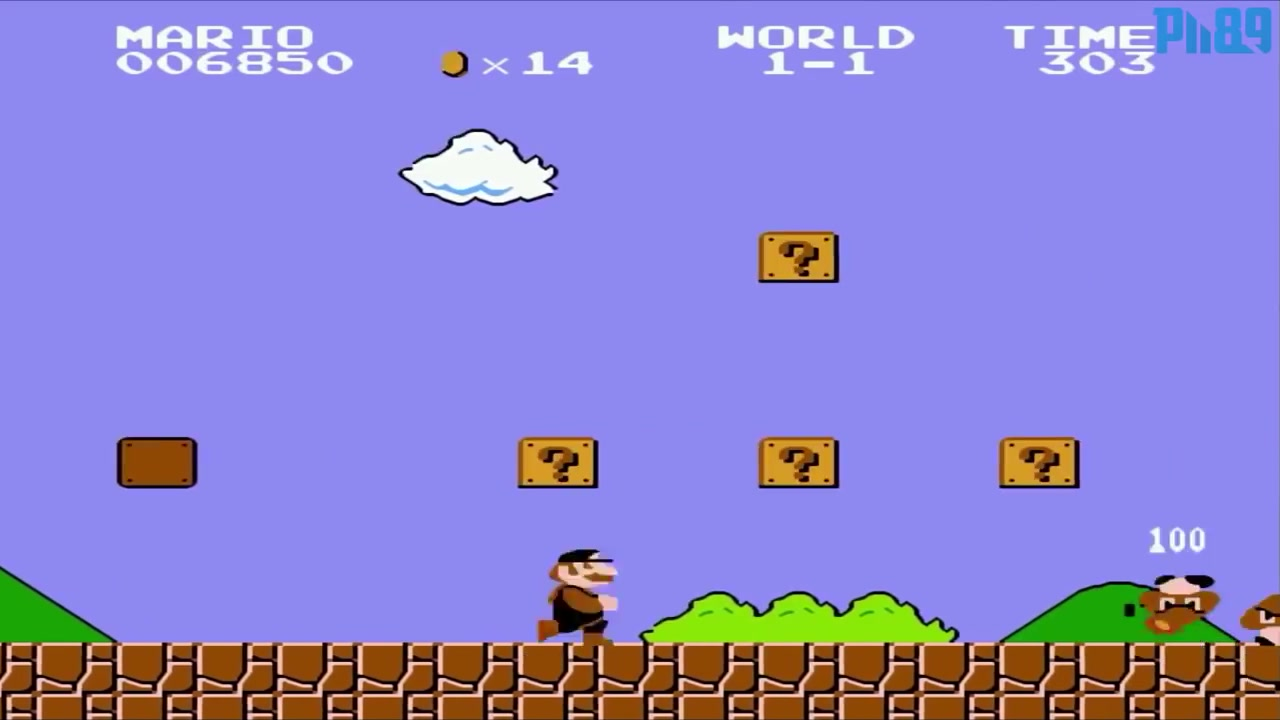mario: (530, 542, 626, 647)
